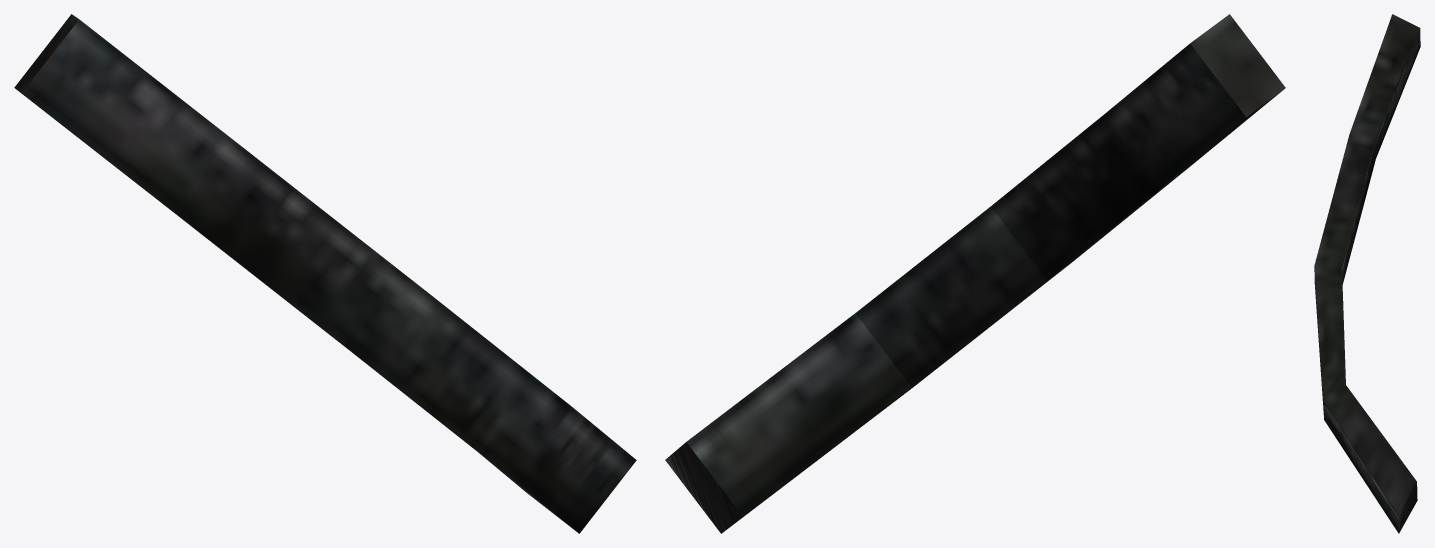
Rendered from prop_barrel_shard1.glb.
3 renders of one model, left to right at view 1: azimuth 30°, elevation 25°; view 2: azimuth 150°, elevation 25°; view 3: azimuth 270°, elevation 25°, orthographic. The views are drawn at different scales.
Size of the model in its own units: 8.63 by 8.55 by 2.19.
Materials: 1 (1 with a texture image).
